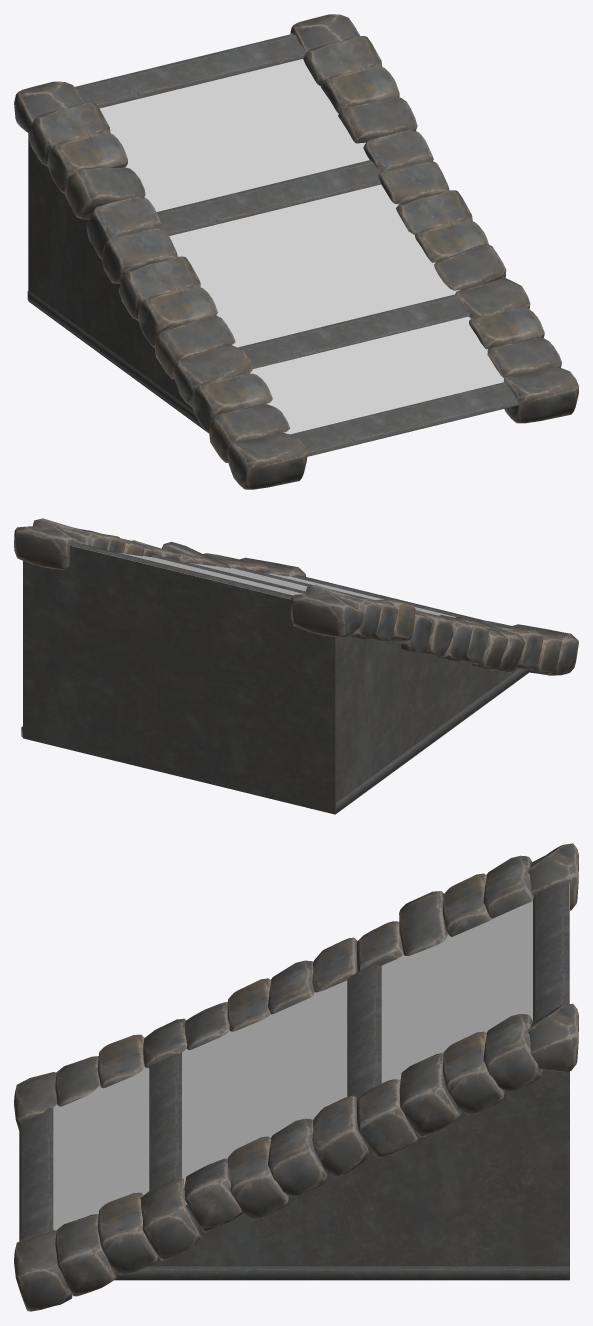
Rendered from Section02.fbx.
The picture shows the model from 3 angles, top to bottom: view 1: azimuth 30°, elevation 25°; view 2: azimuth 150°, elevation 25°; view 3: azimuth 270°, elevation 25°; orthographic projection. The views are drawn at different scales.
Parts seen in each view (by area): view 1: Box037; view 2: Box037; view 3: Box037.
Boxes of the visible parts, bbox=[...] form: Box037: bbox=[14, 14, 578, 489]; Box037: bbox=[14, 518, 578, 814]; Box037: bbox=[14, 843, 578, 1311].
Bounding box in the file's own units: 438 × 290 × 528.
